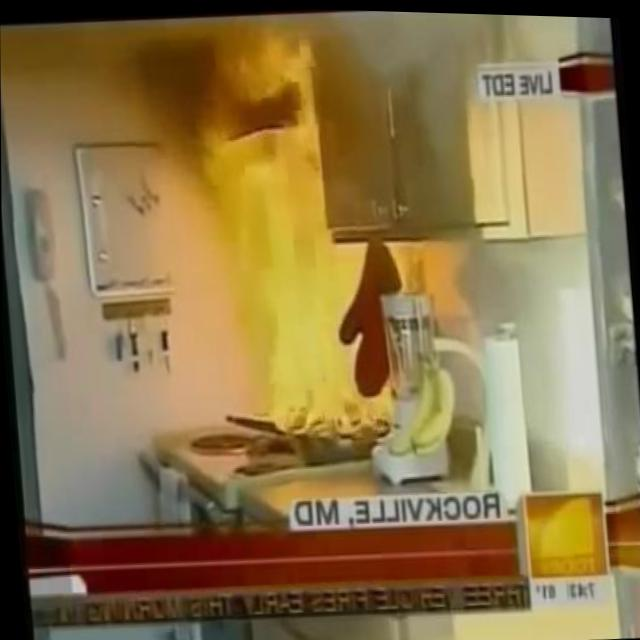fire: (225, 155, 410, 441)
